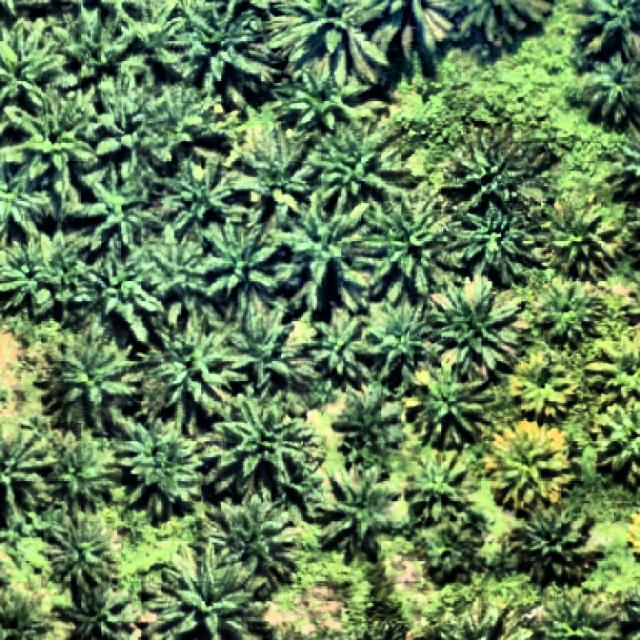Kelapa_Sawit: (137, 308, 257, 432), (202, 392, 320, 503), (188, 490, 300, 602), (36, 318, 141, 433), (4, 78, 98, 198), (280, 187, 369, 313), (179, 0, 281, 109), (72, 236, 165, 344), (312, 458, 403, 567), (77, 66, 176, 166), (362, 195, 449, 308), (484, 419, 576, 521), (117, 408, 203, 517), (432, 274, 522, 378), (66, 164, 166, 250), (306, 123, 399, 214), (507, 503, 604, 588), (459, 196, 552, 284), (51, 1, 140, 87), (410, 360, 496, 449), (41, 508, 118, 607), (279, 49, 370, 132), (138, 220, 214, 314), (330, 381, 408, 472), (540, 198, 622, 284), (200, 212, 280, 300), (151, 153, 240, 230), (228, 300, 302, 388), (52, 430, 120, 524), (368, 296, 440, 382), (452, 132, 530, 211), (239, 122, 319, 196), (530, 278, 607, 354), (304, 306, 379, 382), (508, 350, 578, 426), (404, 444, 468, 524), (420, 516, 480, 587), (152, 82, 220, 144)
